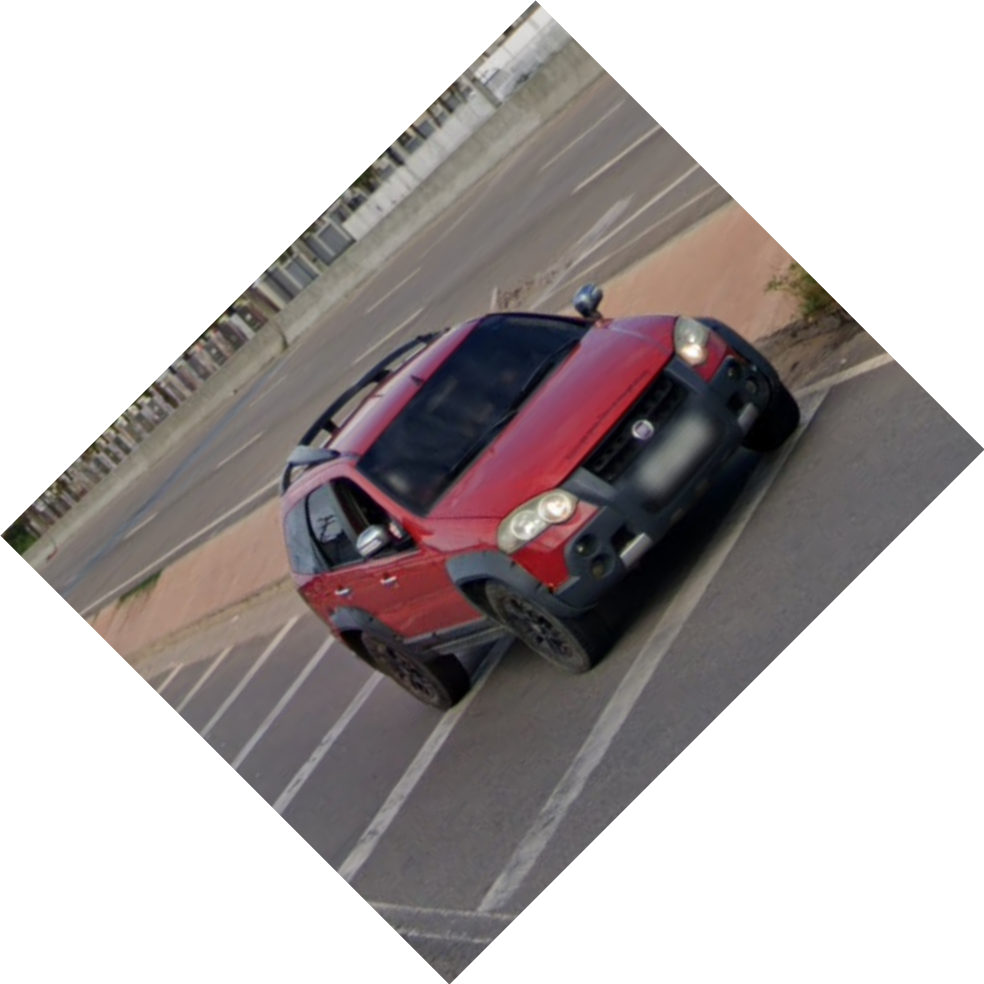car: (272, 281, 803, 714)
